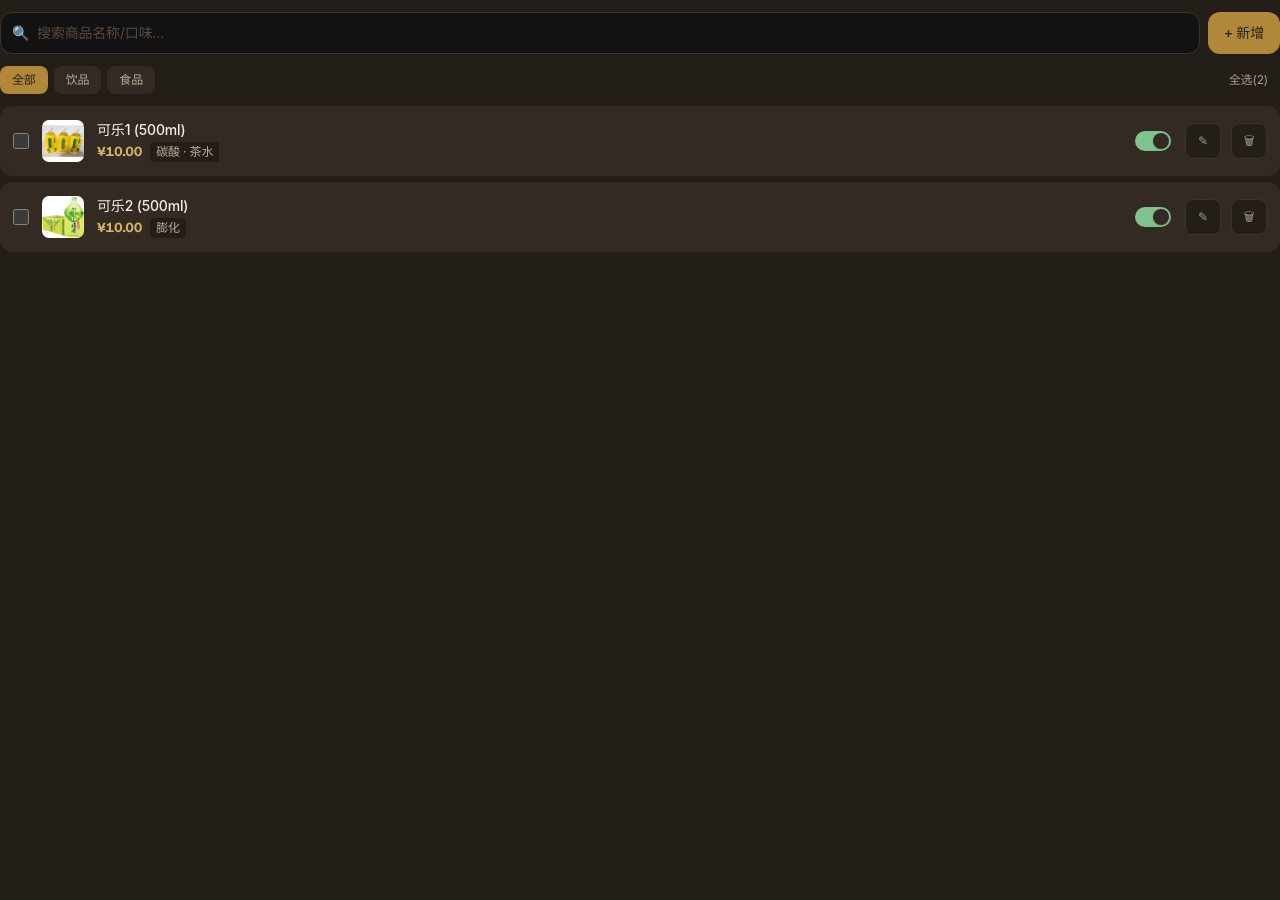
批量上下架与删除 › 批量上架：ids 全量下发并清空选择、通知父级刷新
Click the checkbox named "选择 可乐1": (21, 141) left=13, top=133, right=29, bottom=149
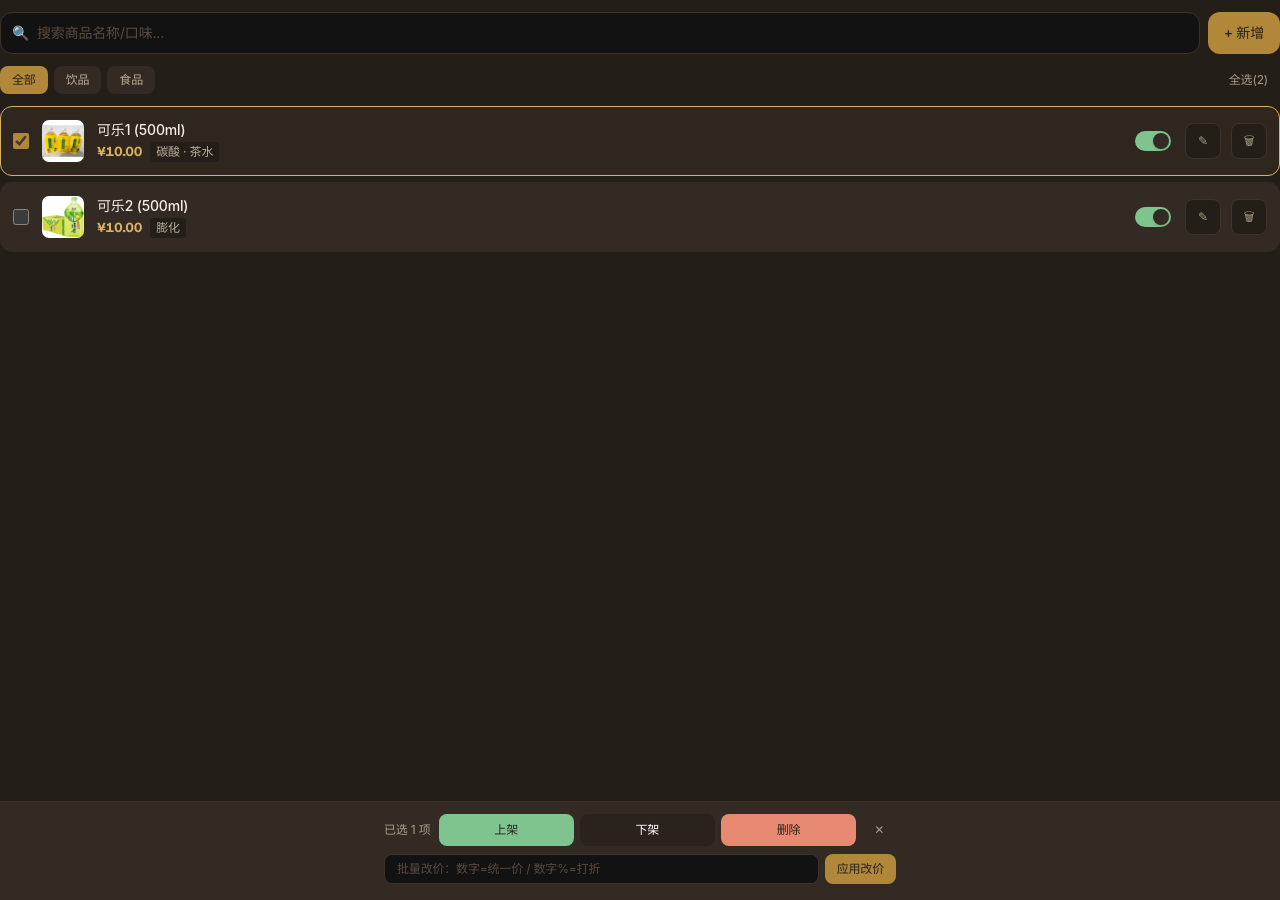
Click the checkbox named "选择 可乐2": (21, 217) left=13, top=209, right=29, bottom=225
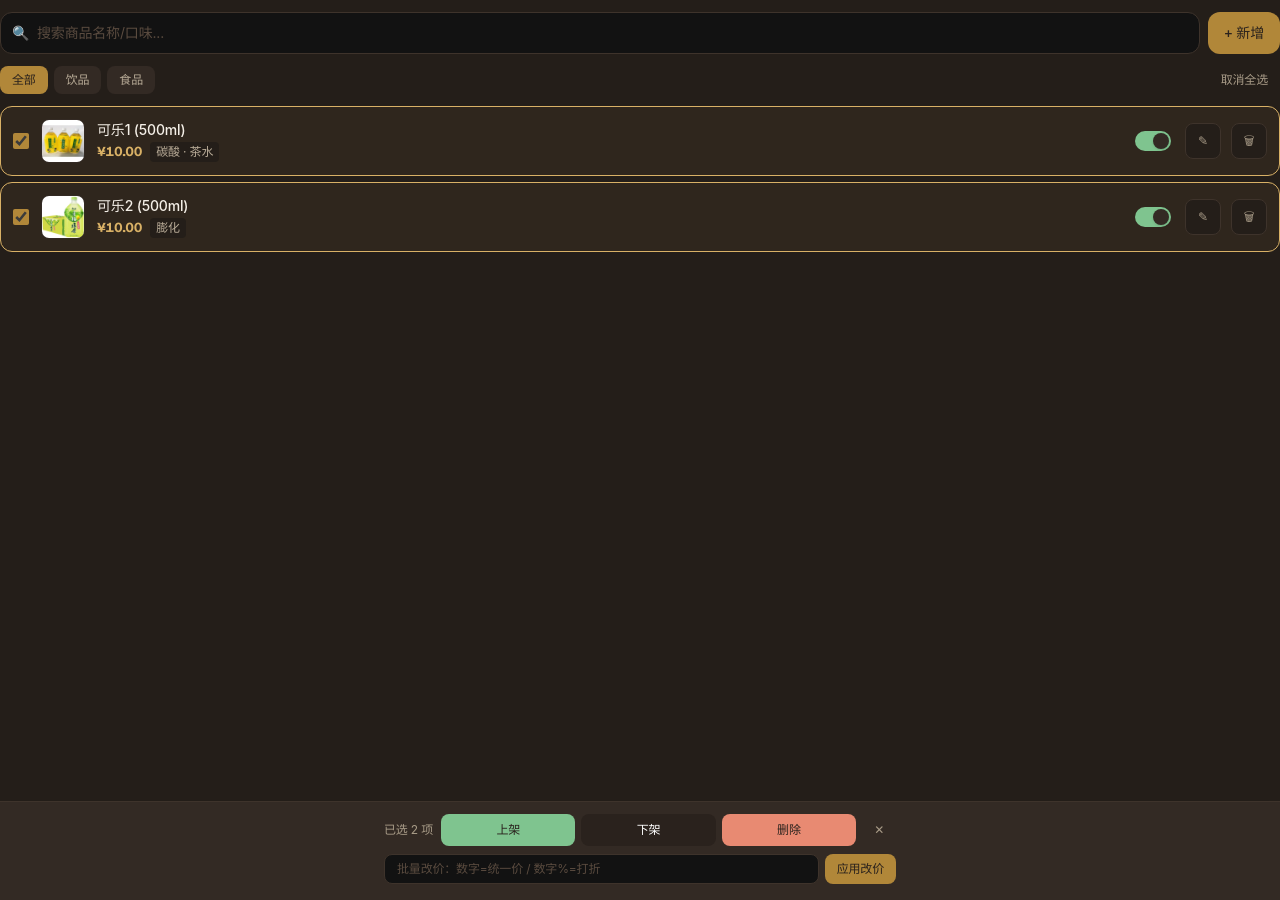
Click the button "上架": (508, 830) left=441, top=814, right=575, bottom=846
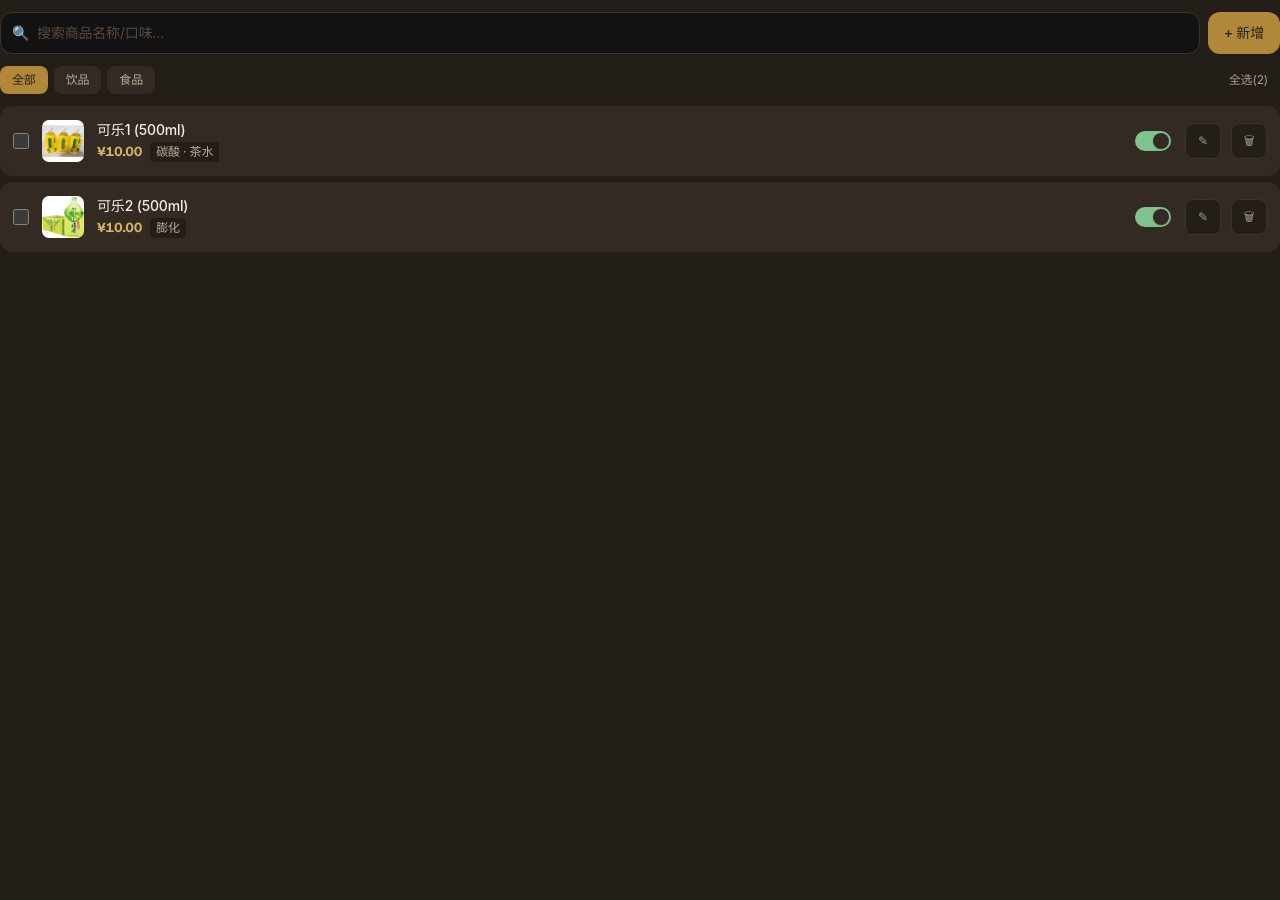
Expected: the text "已选 2 项" is gone
